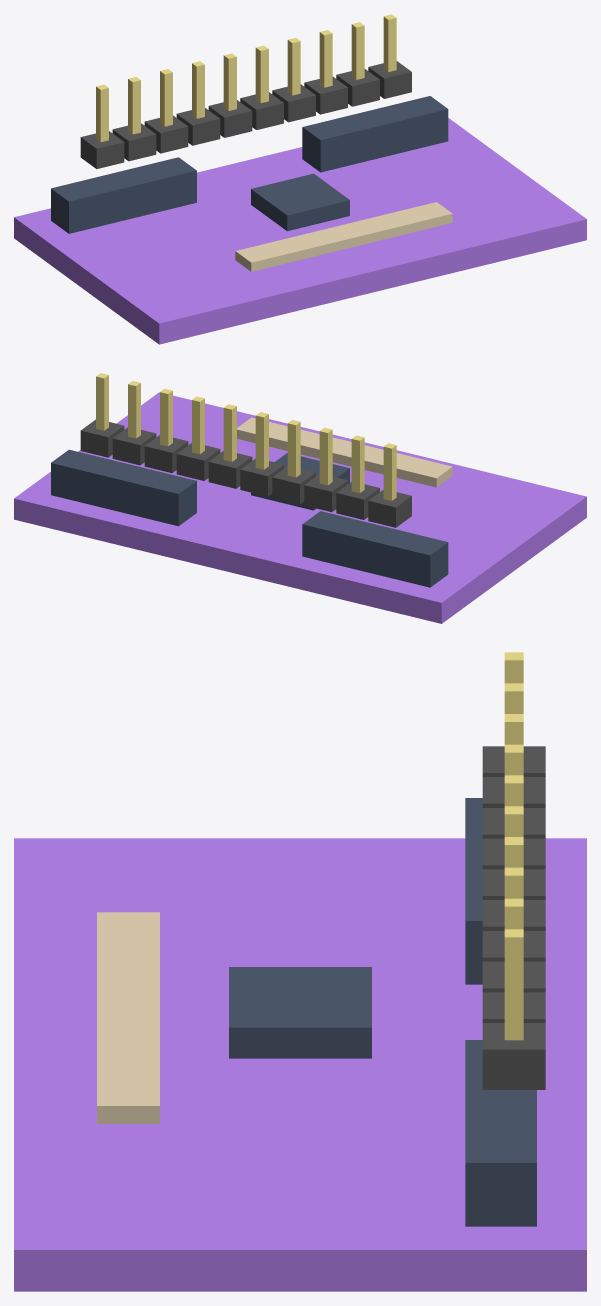
3 views of the same model, one above another, from view 1: azimuth 30°, elevation 25°; view 2: azimuth 150°, elevation 25°; view 3: azimuth 270°, elevation 25° (orthographic). The views are drawn at different scales.
Parts seen in each view (by area): view 1: load-cell-hx711_mesh; view 2: load-cell-hx711_mesh; view 3: load-cell-hx711_mesh.
Part boxes in pixels (box(x1,y1,x2,y2)): load-cell-hx711_mesh: box(14, 14, 586, 344); load-cell-hx711_mesh: box(14, 373, 586, 623); load-cell-hx711_mesh: box(14, 652, 586, 1291).
Size of the model in its own units: 34 by 11.2 by 20.
